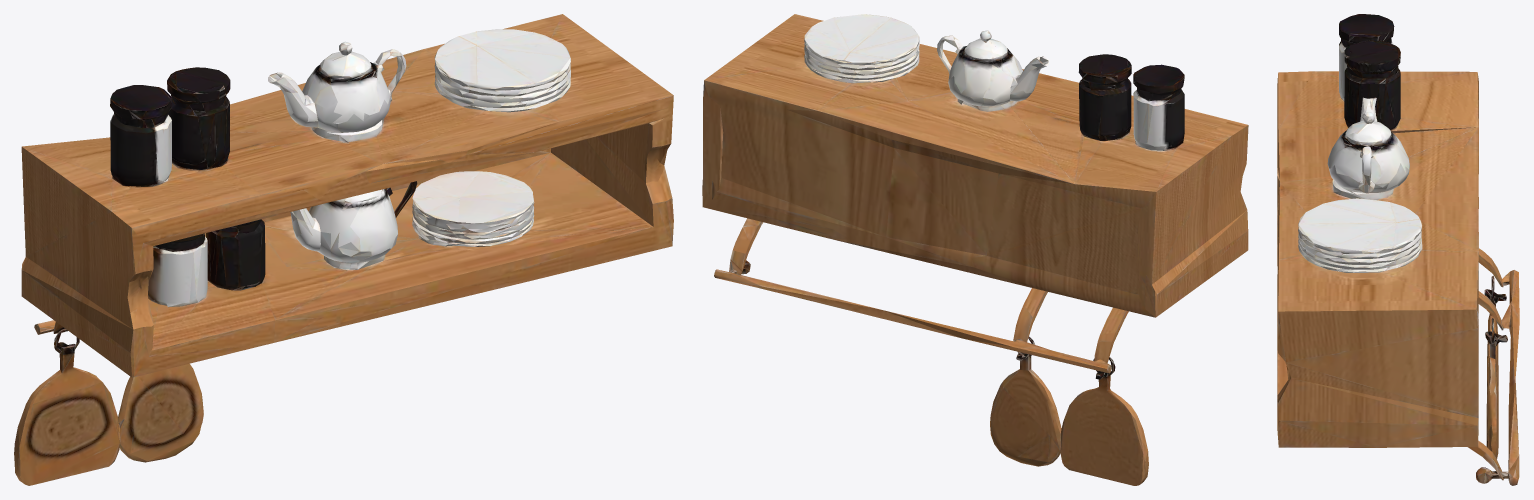
The model's file is wall_shelf.glb.
3 renders of one model, left to right at view 1: azimuth 30°, elevation 25°; view 2: azimuth 150°, elevation 25°; view 3: azimuth 270°, elevation 25°, orthographic. The views are drawn at different scales.
Size of the model in its own units: 1.9 by 1.47 by 0.812.
Materials: 1 (1 with a texture image).
